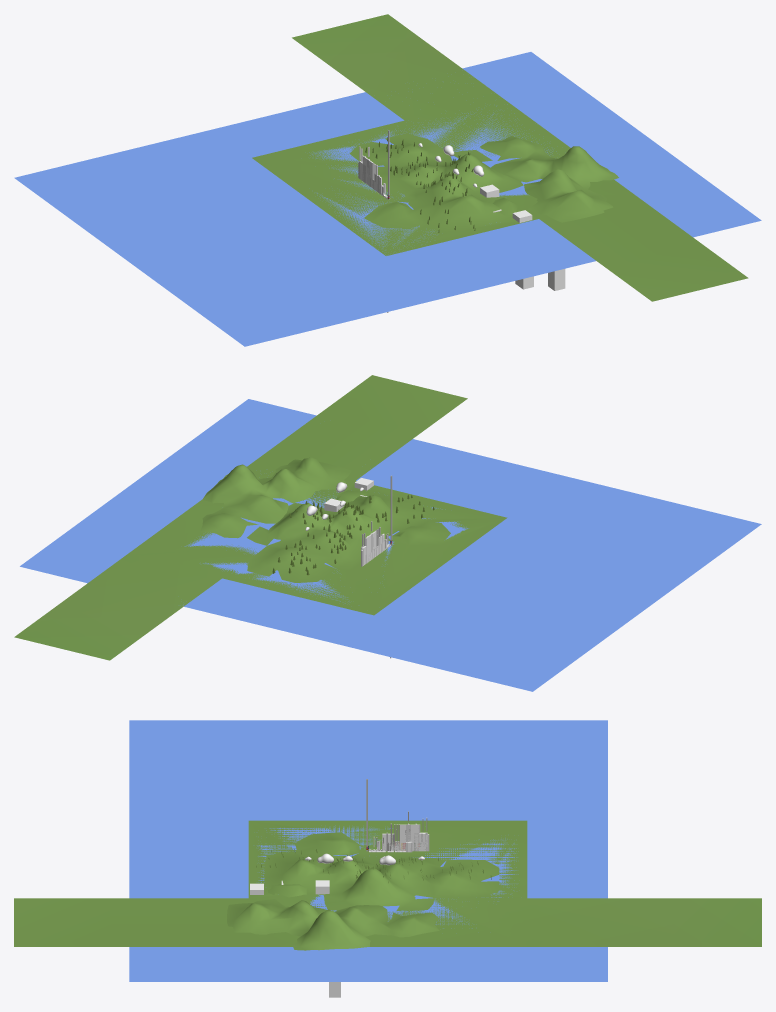
File: level_to_copy5.glb
3 views of the same model, one above another, from view 1: azimuth 30°, elevation 25°; view 2: azimuth 150°, elevation 25°; view 3: azimuth 270°, elevation 25° (orthographic). The views are drawn at different scales.
Parts seen in each view (by area): view 1: Water, Forest, Mountain, City; view 2: Water, Forest, Mountain; view 3: Water, Forest, Mountain, City.
Part boxes in pixels (x1,y1,x2,y2): Water: [14, 52, 761, 346]; Forest: [252, 14, 748, 301]; Mountain: [480, 136, 618, 222]; City: [480, 184, 565, 290]; Water: [20, 399, 761, 691]; Forest: [14, 375, 507, 660]; Mountain: [200, 457, 367, 538]; Water: [129, 720, 607, 981]; Forest: [14, 820, 761, 946]; Mountain: [227, 884, 439, 950]; City: [250, 880, 340, 997].
Size of the model in its own units: 1856 by 627 by 2243.
13 materials, 4 textured.
